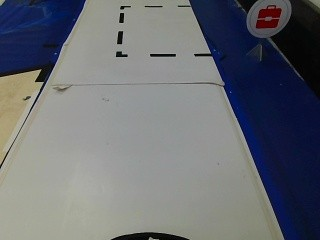company: (246, 1, 289, 35)
